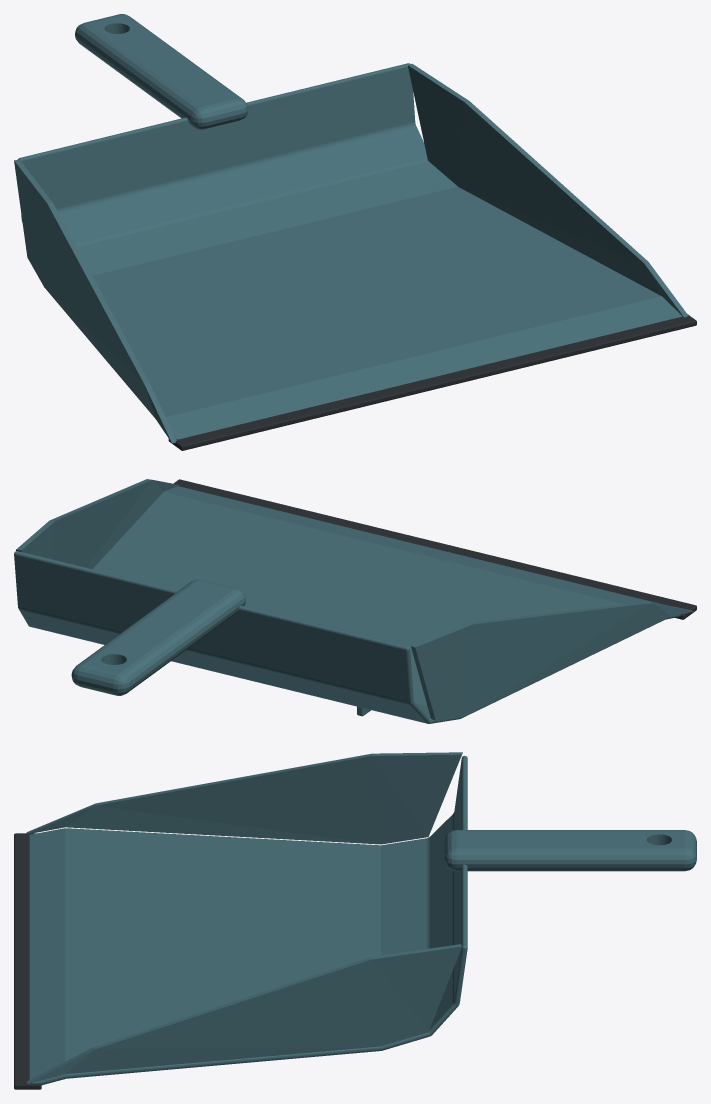
Rendered from EASY-B001.glb.
3 renders of one model, top to bottom at view 1: azimuth 30°, elevation 25°; view 2: azimuth 150°, elevation 25°; view 3: azimuth 270°, elevation 25°, orthographic.
Visible parts, largest first — view 1: Collecting_floor_and_rear, Tapered_sidewall.001, Tapered_sidewall, Short_handle, Thin_sweeping_lip; view 2: Collecting_floor_and_rear, Tapered_sidewall, Short_handle, Tapered_sidewall.001, Thin_sweeping_lip; view 3: Collecting_floor_and_rear, Tapered_sidewall.001, Tapered_sidewall, Short_handle, Thin_sweeping_lip.
Part boxes in pixels (<box>): Collecting_floor_and_rear: <box>18,63,682,439</box>; Tapered_sidewall.001: <box>407,63,688,317</box>; Tapered_sidewall: <box>14,159,176,443</box>; Short_handle: <box>75,14,248,129</box>; Thin_sweeping_lip: <box>168,314,696,450</box>; Collecting_floor_and_rear: <box>14,486,680,723</box>; Tapered_sidewall: <box>411,601,693,720</box>; Short_handle: <box>71,579,245,695</box>; Tapered_sidewall.001: <box>16,479,178,569</box>; Thin_sweeping_lip: <box>173,479,696,619</box>; Collecting_floor_and_rear: <box>29,755,467,1085</box>; Tapered_sidewall.001: <box>27,944,461,1083</box>; Tapered_sidewall: <box>26,752,462,844</box>; Short_handle: <box>444,830,696,871</box>; Thin_sweeping_lip: <box>14,833,41,1089</box>.
Size of the model in its own units: 0.304 by 0.071 by 0.346.
